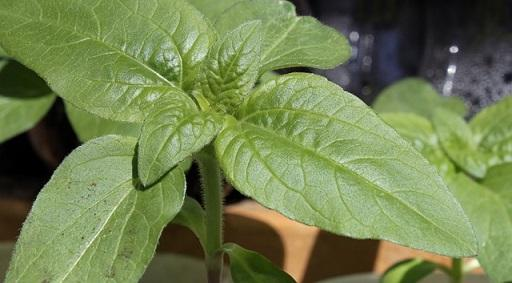girasol2meses: (29, 9, 478, 270)
